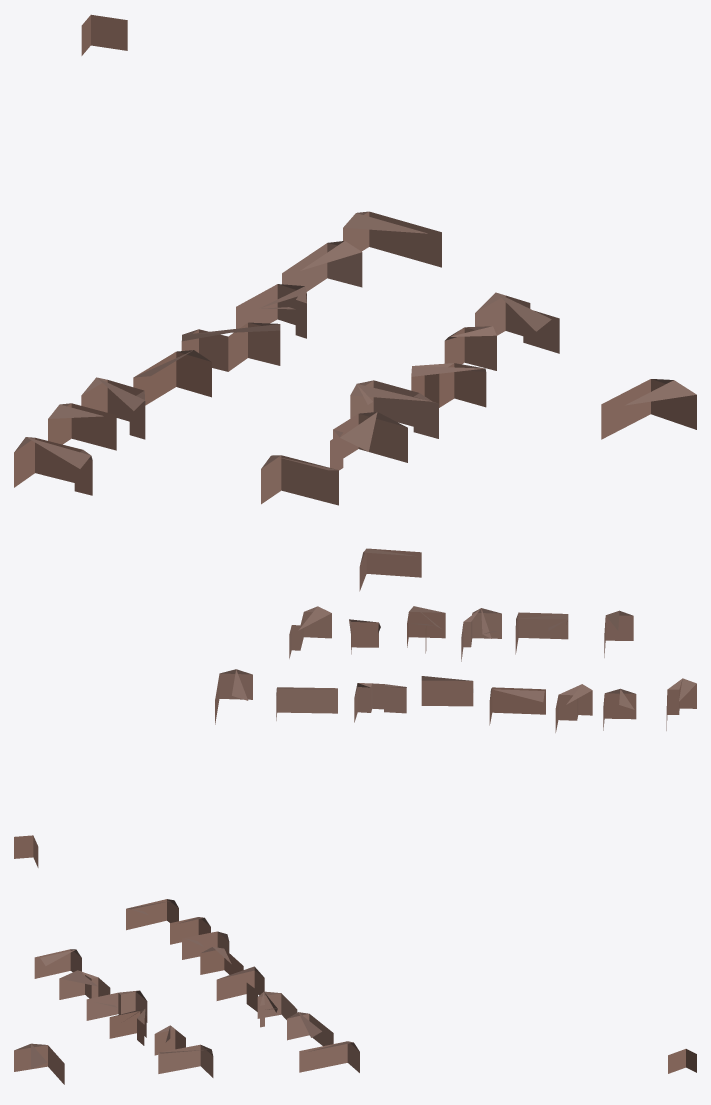
File: c_1640_17820_buildings_residential.glb
The picture shows the model from 3 angles, top to bottom: view 1: azimuth 30°, elevation 25°; view 2: azimuth 150°, elevation 25°; view 3: azimuth 270°, elevation 25°; orthographic projection. The views are drawn at different scales.
Parts seen in each view (by area): view 1: geometry_0; view 2: geometry_0; view 3: geometry_0.
Boxes of the visible parts, box(x1,y1,x2,y2) form: geometry_0: box(14, 14, 696, 505); geometry_0: box(14, 548, 696, 867); geometry_0: box(14, 899, 696, 1084).
Bounding box in the file's own units: 155 × 10.94 × 263.
